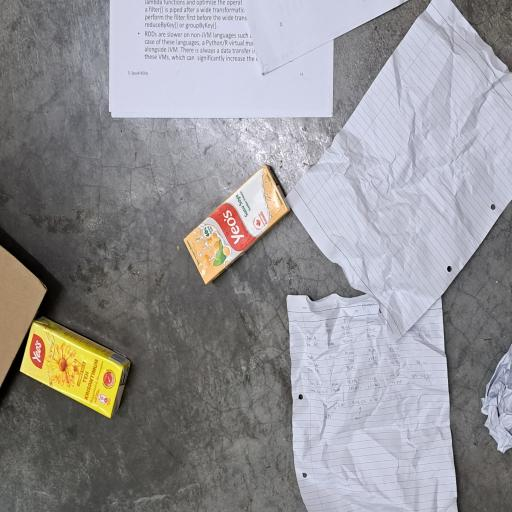cardboard: (88, 0, 206, 67)
drink carton: (168, 246, 262, 384), (72, 26, 148, 176)
paper: (125, 379, 383, 512), (293, 140, 384, 512), (0, 384, 166, 512)
